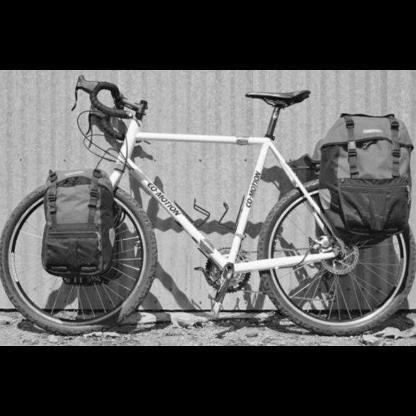Bicycle: (0, 76, 413, 344)
